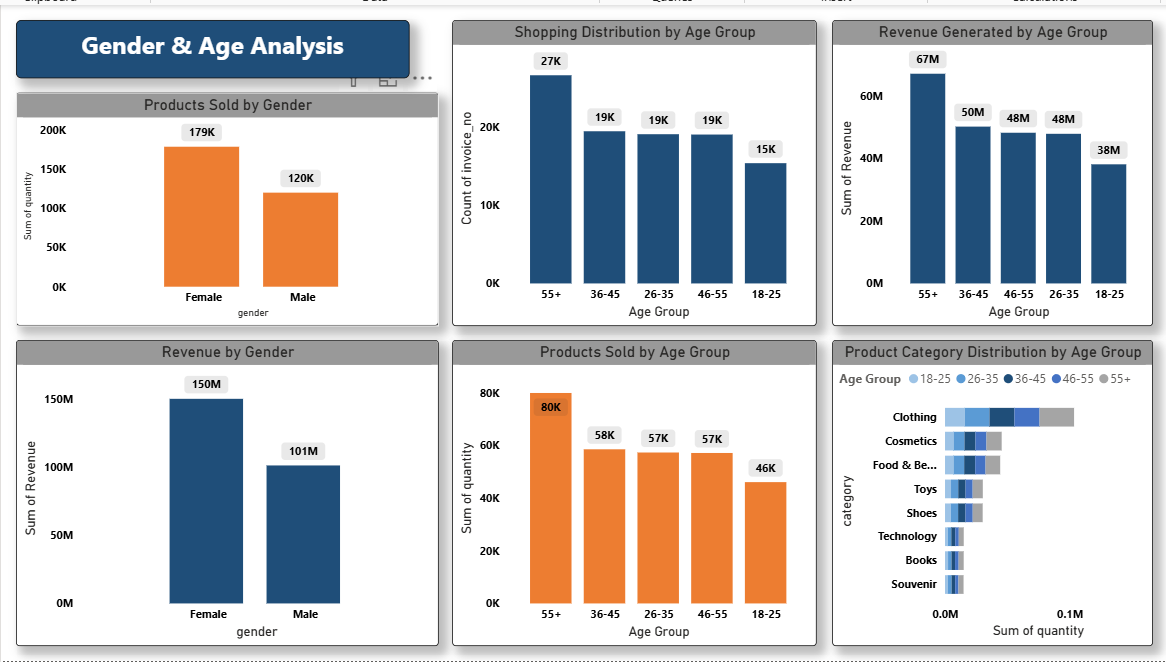

The page's visual inventory and layout, read from the dashboard file:
{"tool":"powerbi","page":{"name":"Gender & Age Analysis","canvas":[1280,720],"ordinal":6},"visuals":[{"type":"clusteredColumnChart","title":"Products Sold by Gender","fields":{"Category":["customer_data.gender"],"Y":["Sum(customer_data.quantity)"]},"box":[16,96,464,256],"z":0},{"type":"clusteredColumnChart","title":"Revenue by Gender","fields":{"Category":["customer_data.gender"],"Y":["Sum(customer_data.Revenue)"]},"box":[16,368,464,336],"z":1000},{"type":"clusteredColumnChart","title":"Shopping Distribution by Age Group","fields":{"Category":["customer_data.Age Group"],"Y":["CountNonNull(customer_data.invoice_no)"]},"box":[496,16,400,336],"z":2000},{"type":"clusteredColumnChart","title":"Products Sold by Age Group","fields":{"Category":["customer_data.Age Group"],"Y":["Sum(customer_data.quantity)"]},"box":[496,368,400,336],"z":3000},{"type":"clusteredColumnChart","title":"Revenue Generated by Age Group","fields":{"Category":["customer_data.Age Group"],"Y":["Sum(customer_data.Revenue)"]},"box":[912,16,352,336],"z":4000},{"type":"barChart","title":"Product Category Distribution by Age Group","fields":{"Category":["customer_data.category"],"Y":["Sum(customer_data.quantity)"],"Series":["customer_data.Age Group"]},"box":[912,368,352,336],"z":5000},{"type":"textbox","box":[16,16,432,64],"z":6000}]}

Visuals, with their boxes in screenshot pixels (x1, y1, x2, y2), scaled from the page's 1280x720 canvas onto the 1166x662 screenshot:
"Products Sold by Gender" clusteredColumnChart: bbox=(15, 88, 437, 324)
"Revenue by Gender" clusteredColumnChart: bbox=(15, 338, 437, 647)
"Shopping Distribution by Age Group" clusteredColumnChart: bbox=(452, 15, 816, 324)
"Products Sold by Age Group" clusteredColumnChart: bbox=(452, 338, 816, 647)
"Revenue Generated by Age Group" clusteredColumnChart: bbox=(831, 15, 1151, 324)
"Product Category Distribution by Age Group" barChart: bbox=(831, 338, 1151, 647)
textbox: bbox=(15, 15, 408, 74)
